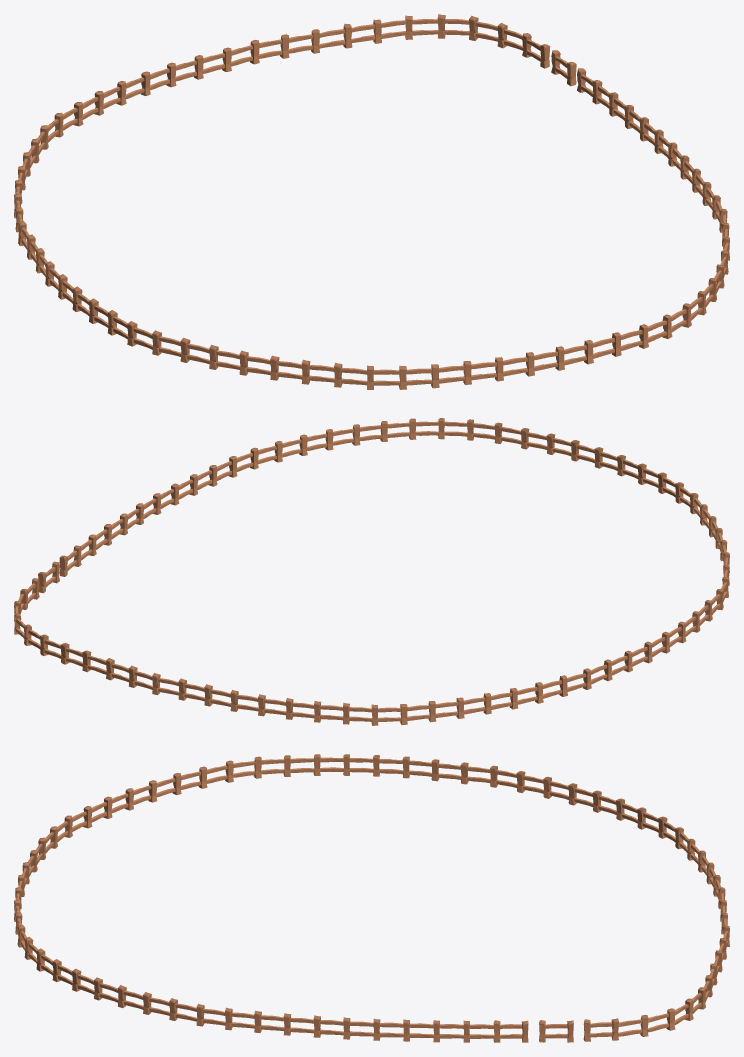
Rendered from Ciftlik.fbx.
3 renders of one model, top to bottom at view 1: azimuth 30°, elevation 25°; view 2: azimuth 150°, elevation 25°; view 3: azimuth 270°, elevation 25°, orthographic. The views are drawn at different scales.
Visible parts, largest first — view 1: Çiftlik; view 2: Çiftlik; view 3: Çiftlik.
Part boxes in pixels (x1,y1,x2,y2): Çiftlik: (14,14,729,389); Çiftlik: (14,418,729,725); Çiftlik: (14,754,729,1042).
Size of the model in its own units: 1151 by 39.75 by 1291.
